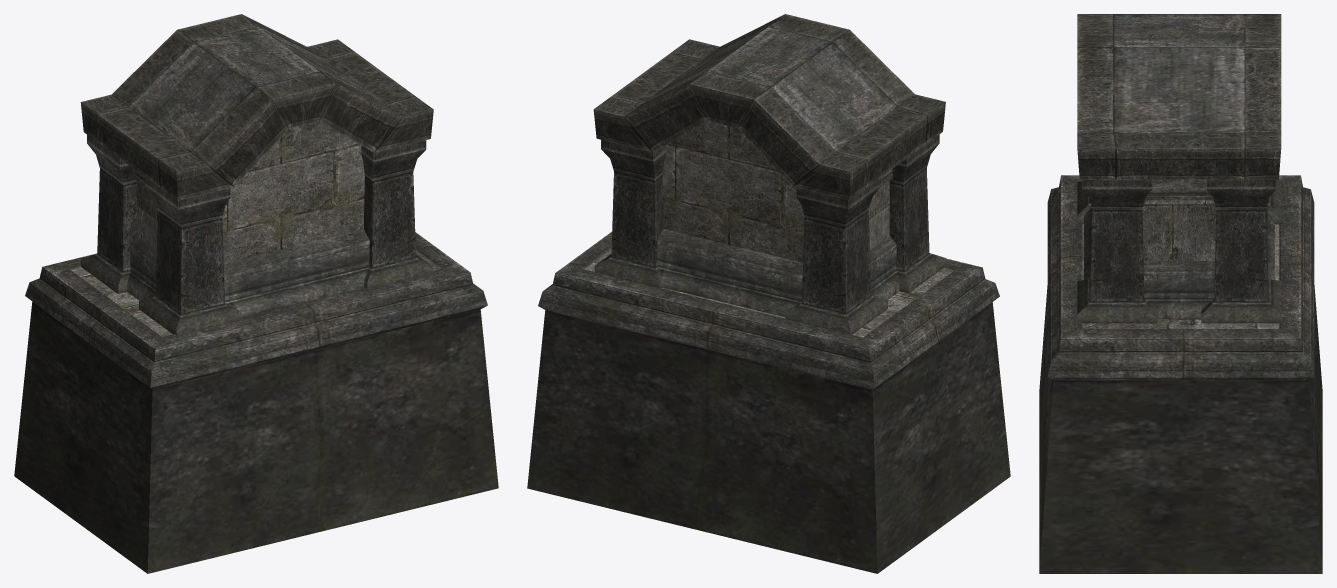
Rendered from eso_gu1_GraveyardTomb1-transformed.glb.
The picture shows the model from 3 angles, left to right: view 1: azimuth 30°, elevation 25°; view 2: azimuth 150°, elevation 25°; view 3: azimuth 270°, elevation 25°; orthographic projection. The views are drawn at different scales.
Visible parts, largest first — view 1: default; view 2: default; view 3: default.
Boxes of the visible parts, bbox=[...] form: default: bbox=[14, 14, 498, 573]; default: bbox=[527, 14, 1010, 573]; default: bbox=[1039, 14, 1322, 573].
Size of the model in its own units: 3.89 by 4.51 by 2.56.
Materials: 3 (3 with a texture image).
